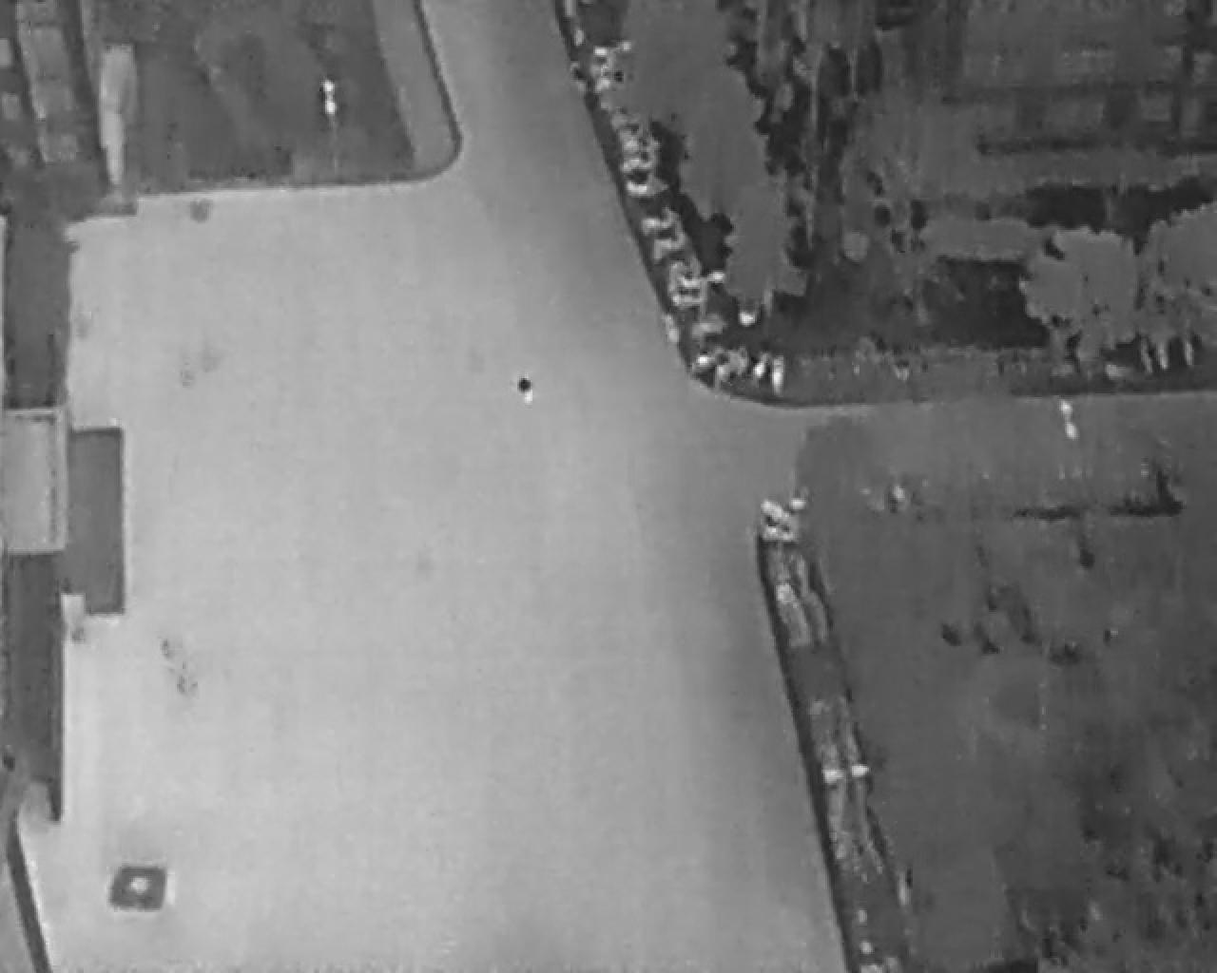person: (518, 372, 535, 404)
